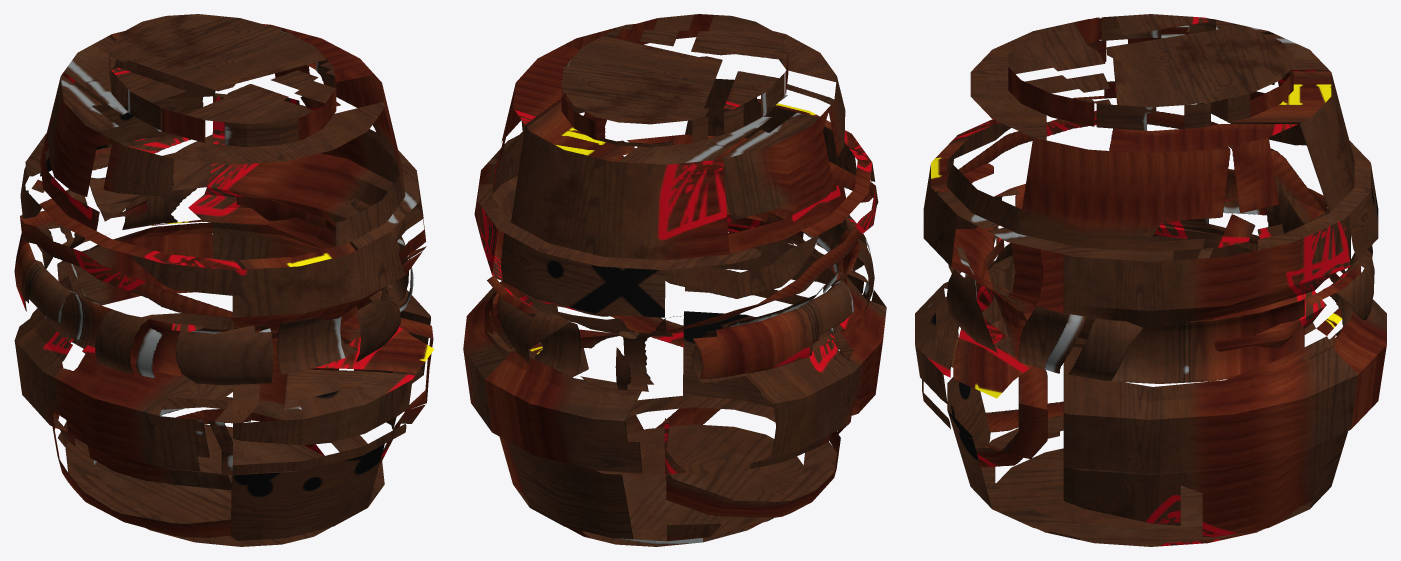
File: Barrel.FBX
3 views of the same model, side by side, from view 1: azimuth 30°, elevation 25°; view 2: azimuth 150°, elevation 25°; view 3: azimuth 270°, elevation 25° (orthographic). The views are drawn at different scales.
Visible parts, largest first — view 1: Barrel; view 2: Barrel; view 3: Barrel.
Part boxes in pixels (left/top/right/bottom): Barrel: left=14, top=14, right=434, bottom=546; Barrel: left=463, top=14, right=886, bottom=546; Barrel: left=915, top=14, right=1386, bottom=546.
Size of the model in its own units: 35.09 by 38.91 by 38.54.
Materials: 1 (1 with a texture image).
